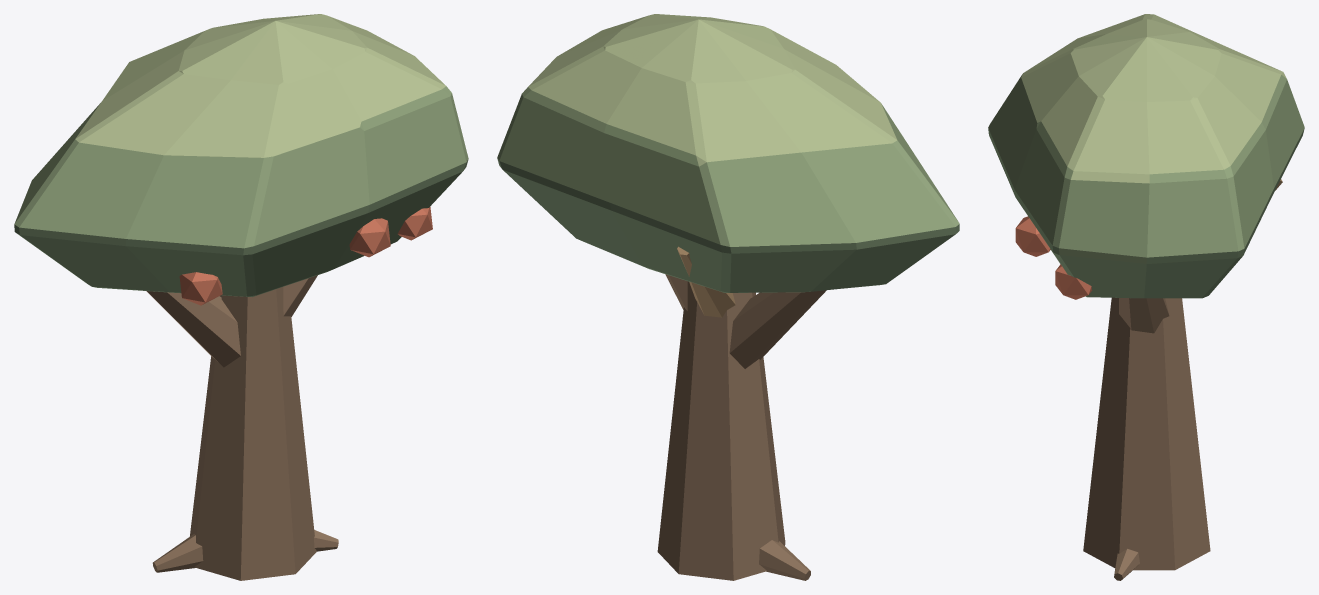
The model's file is orchard-tree.glb.
3 views of the same model, side by side, from view 1: azimuth 30°, elevation 25°; view 2: azimuth 150°, elevation 25°; view 3: azimuth 270°, elevation 25° (orthographic).
Visible parts, largest first — view 1: orchard_tree_crown_connected, orchard_tree_trunk, orchard_tree_branch_w, orchard_tree_root_w, orchard_tree_fruit_1, orchard_tree_fruit_0, orchard_tree_fruit_2, orchard_tree_branch_e; view 2: orchard_tree_crown_connected, orchard_tree_trunk, orchard_tree_branch_w, orchard_tree_root_w, orchard_tree_branch_back; view 3: orchard_tree_crown_connected, orchard_tree_trunk, orchard_tree_branch_e, orchard_tree_fruit_1, orchard_tree_fruit_2, orchard_tree_root_e.
Boxes of the visible parts, x1,y1,x2,y2 form: orchard_tree_crown_connected: (14,14,468,296); orchard_tree_trunk: (190,287,316,580); orchard_tree_branch_w: (146,291,240,367); orchard_tree_root_w: (152,534,203,572); orchard_tree_fruit_1: (349,218,390,257); orchard_tree_fruit_0: (179,272,222,305); orchard_tree_fruit_2: (397,207,432,240); orchard_tree_branch_e: (283,275,317,316); orchard_tree_crown_connected: (497,14,959,292); orchard_tree_trunk: (657,281,785,580); orchard_tree_branch_w: (729,290,826,368); orchard_tree_root_w: (759,540,810,580); orchard_tree_branch_back: (677,246,735,317); orchard_tree_crown_connected: (988,14,1304,298); orchard_tree_trunk: (1083,297,1210,570); orchard_tree_branch_e: (1119,298,1169,333); orchard_tree_fruit_1: (1015,216,1050,256); orchard_tree_fruit_2: (1055,264,1092,299); orchard_tree_root_e: (1114,548,1139,580).
Bounding box in the file's own units: 3.42 × 4.06 × 2.23.
